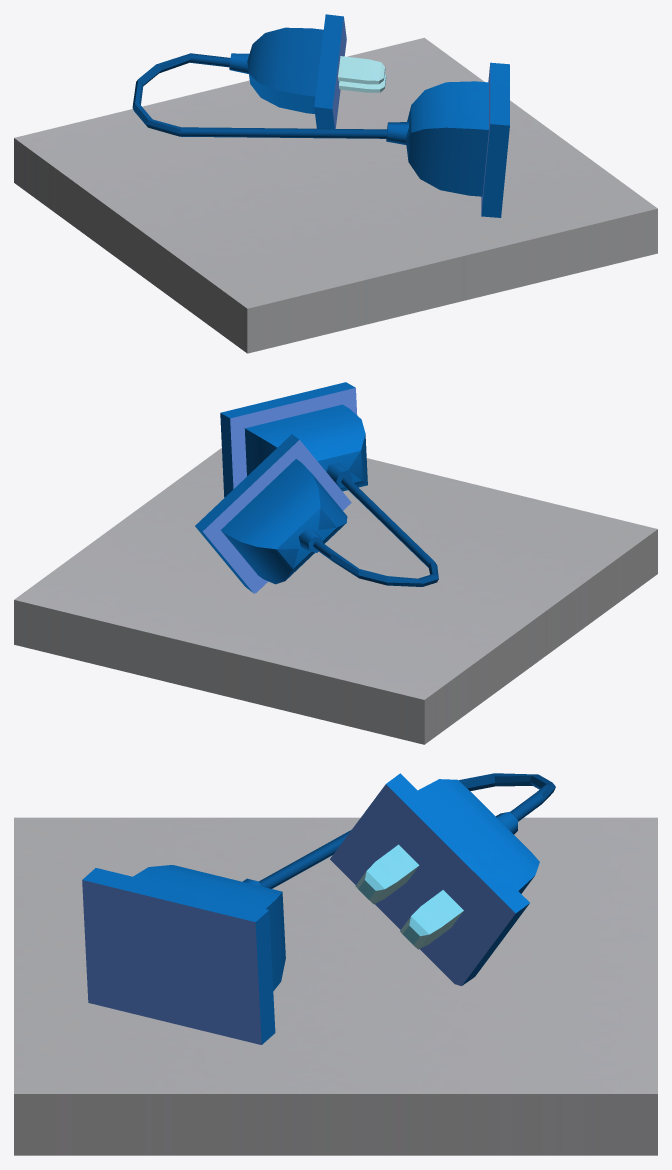
Rendered from SM_Cable.fbx.
3 renders of one model, top to bottom at view 1: azimuth 30°, elevation 25°; view 2: azimuth 150°, elevation 25°; view 3: azimuth 270°, elevation 25°, orthographic. The views are drawn at different scales.
Parts seen in each view (by area): view 1: SM_Cable; view 2: SM_Cable; view 3: SM_Cable.
Part boxes in pixels (bbox=[...]): SM_Cable: bbox=[14, 14, 657, 353]; SM_Cable: bbox=[14, 382, 657, 744]; SM_Cable: bbox=[14, 773, 657, 1155].
Bounding box in the file's own units: 23.27 × 9.95 × 22.93.
